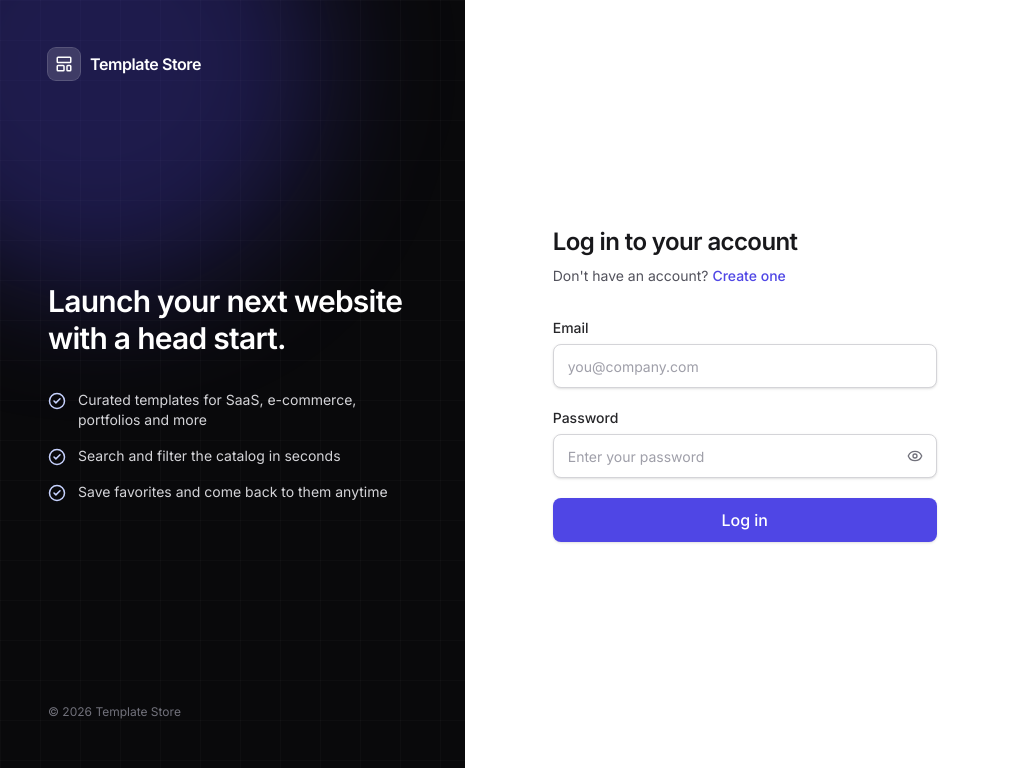
Login page › explains network failures
In the field labelled "Email": (745, 366) 553,344 -> 937,388, type "ada@example.com"
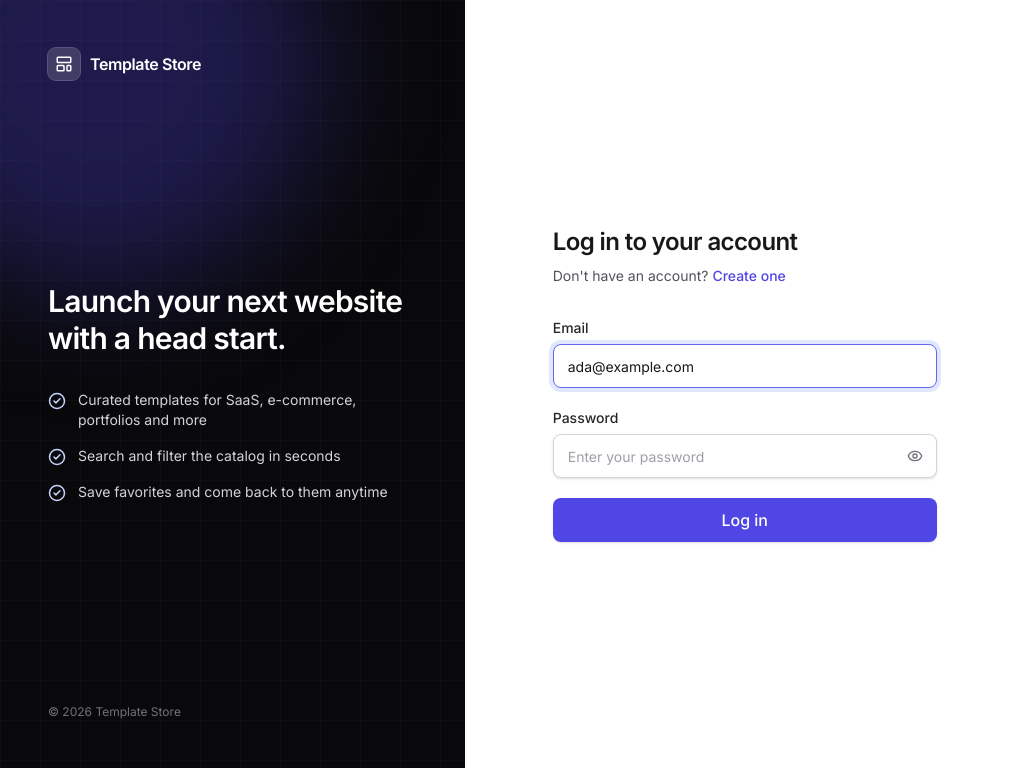
In the password field labelled "Password": (745, 456) 553,434 -> 937,478, type "Password1"
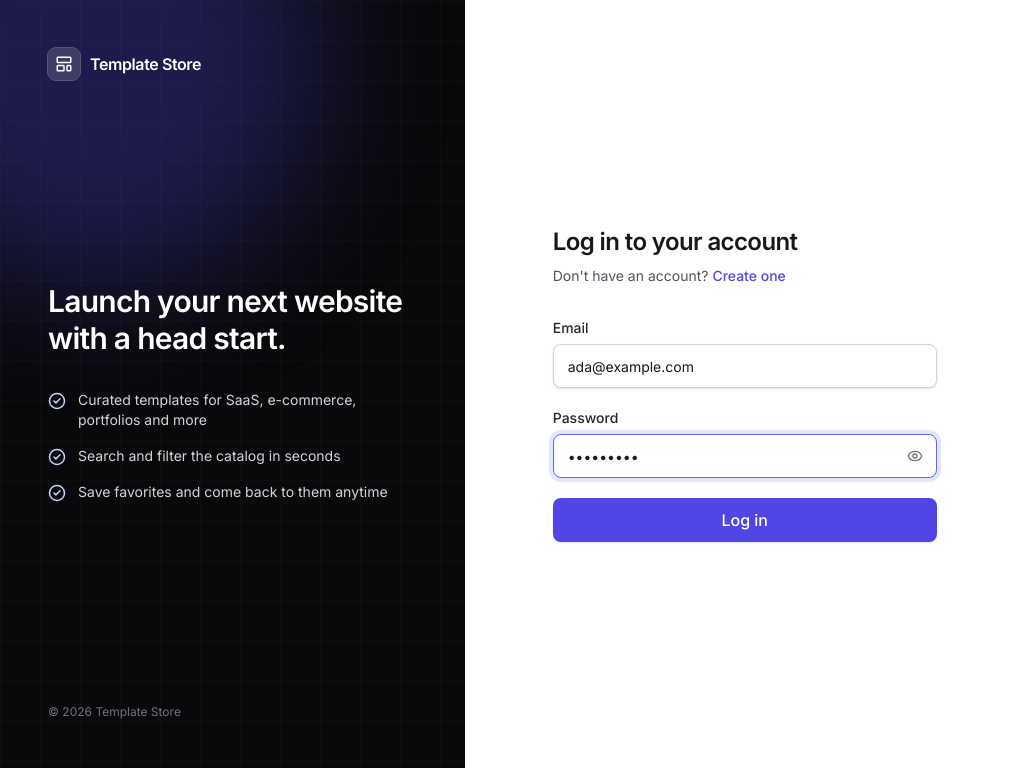
Click the button "Log in": (745, 520) 553,498 -> 937,542
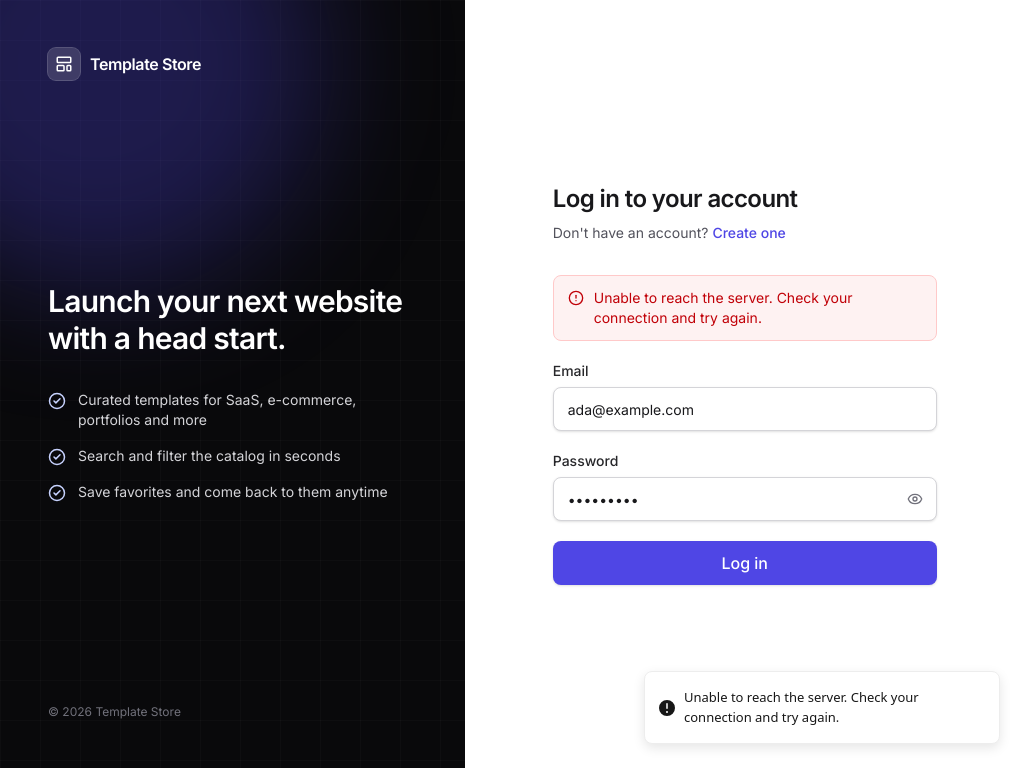
Expected: the message shows "Unable to reach the server", 594,289 -> 852,326
